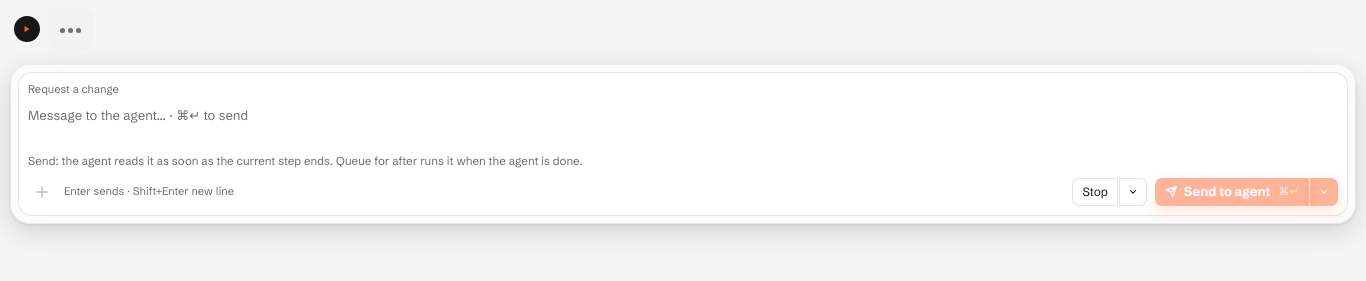
Test case: composer while the agent works: live input on › shows the limit error tooLong translated and keeps the words
Expected: the button named "More ways to send" is shown, [1310,178,1338,206]
In the text box labelled "Request a change": point(683, 126) [28,106,1338,145], type "words"
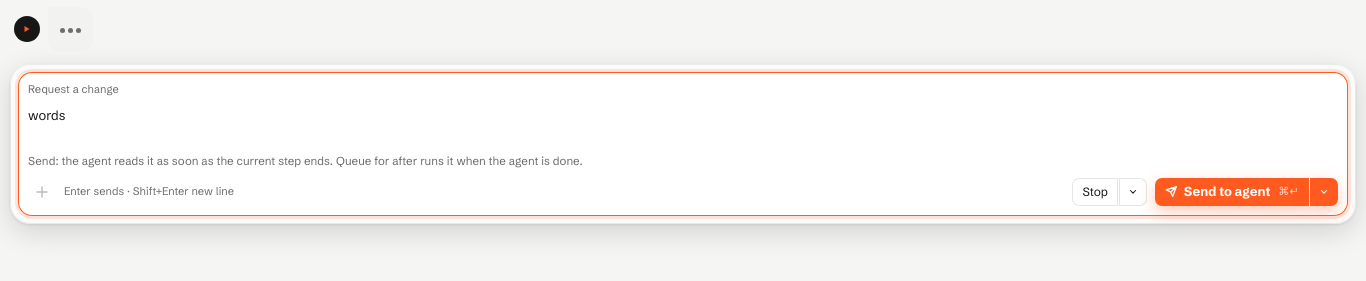
Press Enter
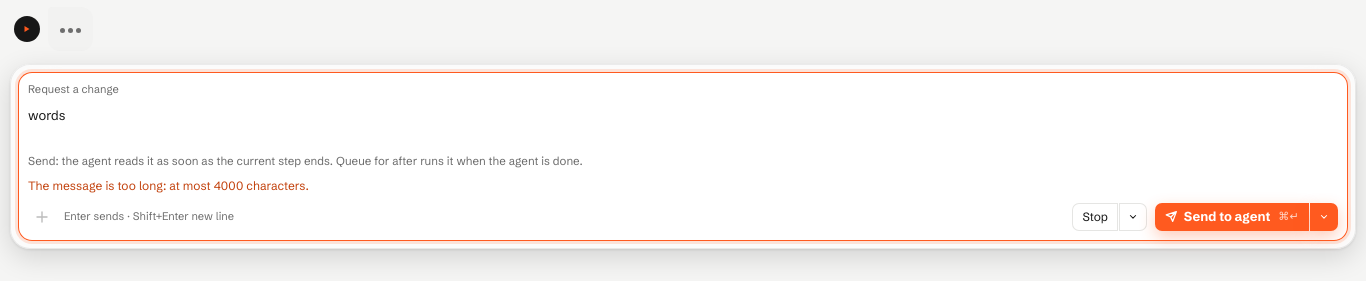
Expected: the message "The message is too long: at most 4000 characters." is shown, [28,178,309,193]
